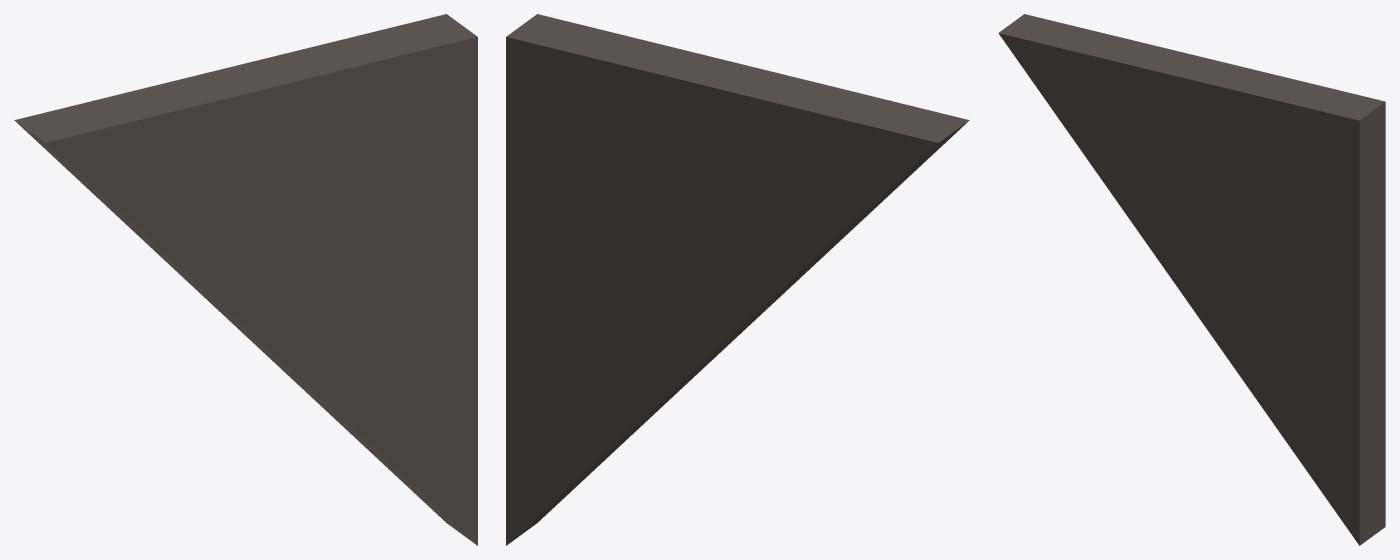
File: MCastle_SquareWall_Base_Angled_B.FBX
3 renders of one model, left to right at view 1: azimuth 30°, elevation 25°; view 2: azimuth 150°, elevation 25°; view 3: azimuth 330°, elevation 25°, orthographic. The views are drawn at different scales.
Visible parts, largest first — view 1: MCastle_SquareWall_Base_Angled_B; view 2: MCastle_SquareWall_Base_Angled_B; view 3: MCastle_SquareWall_Base_Angled_B.
Part boxes in pixels (x1,y1,x2,y2): MCastle_SquareWall_Base_Angled_B: [14, 14, 477, 545]; MCastle_SquareWall_Base_Angled_B: [506, 14, 969, 545]; MCastle_SquareWall_Base_Angled_B: [998, 14, 1385, 545].
Bounding box in the file's own units: 4 × 4.5 × 0.5.
